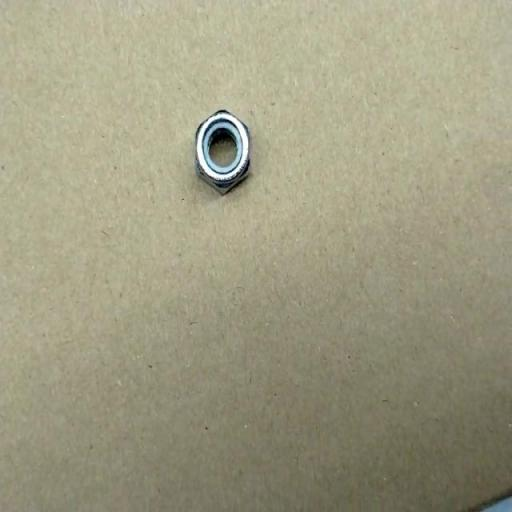Nut: (194, 110, 252, 195)
